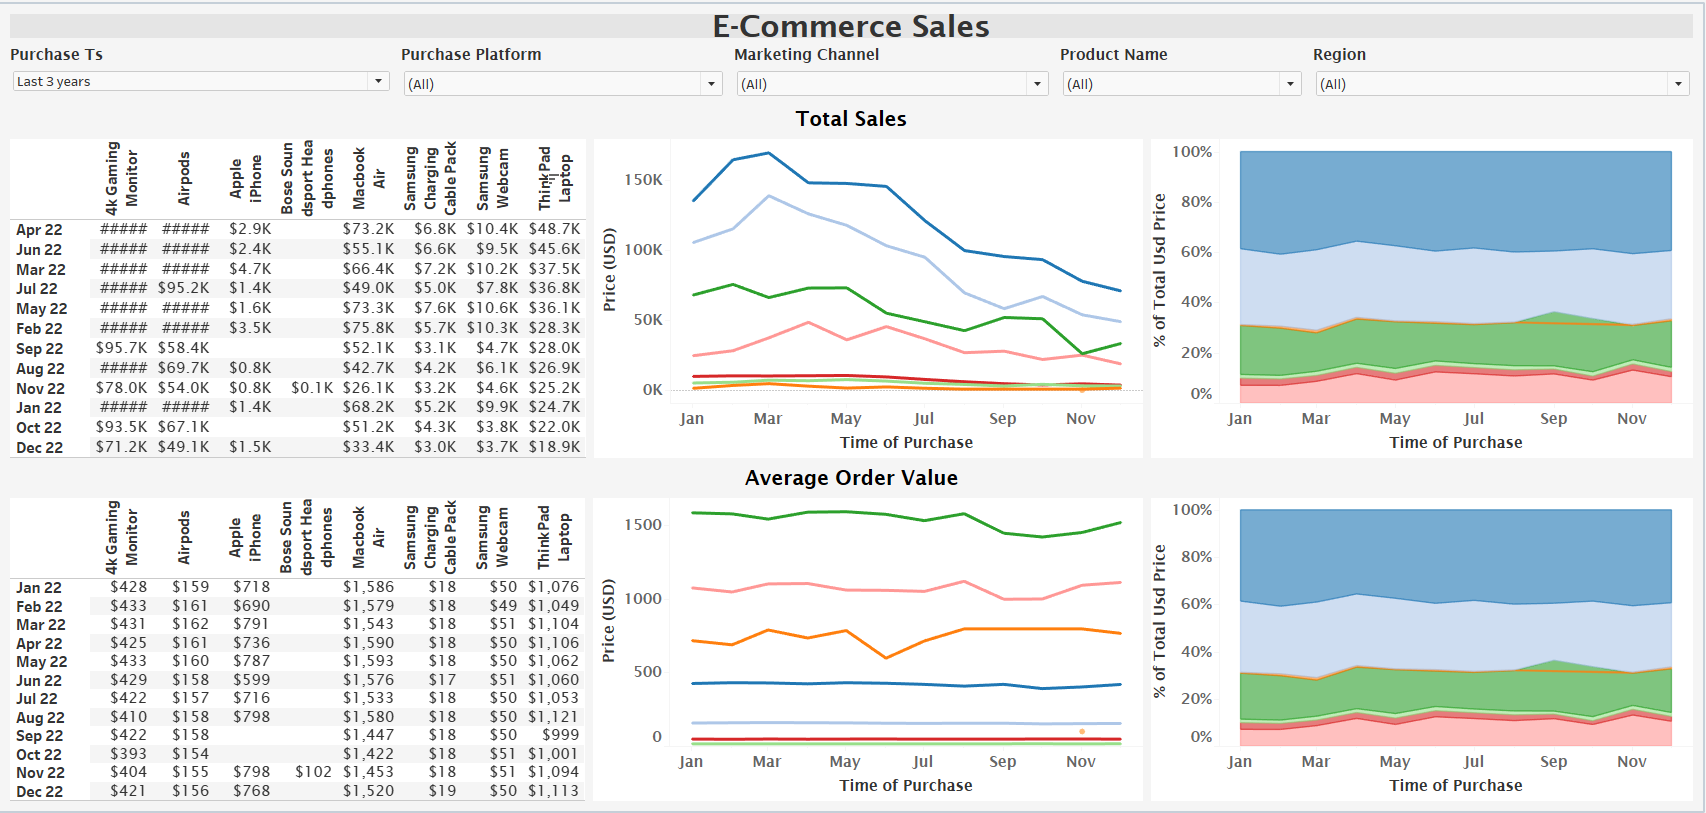

Layout of this report page (visuals, bound fields, positions):
{"tool":"tableau","page":{"name":"Dashboard 1","canvas":[1000,1000],"units":"permille","ordinal":0},"visuals":[{"type":"title","box":[4.7,9.9,990.6,39.5]},{"type":"filter","title":"Sales by Month Table","param":"[federated.17e6xtl1oemijd1epmsin1qef693].[none:purchase_ts:qk]","box":[4.7,49.3,229,75.2]},{"type":"filter","title":"Sales by Month Table","param":"[federated.17e6xtl1oemijd1epmsin1qef693].[none:purchase_platform:nk]","box":[233.7,49.3,195.1,75.2]},{"type":"filter","title":"Sales by Month Table","param":"[federated.17e6xtl1oemijd1epmsin1qef693].[none:marketing_channel:nk]","box":[428.8,49.3,191,75.2]},{"type":"filter","title":"Sales by Month Table","param":"[federated.17e6xtl1oemijd1epmsin1qef693].[none:product_name_clean:nk]","box":[619.8,49.3,148.2,75.2]},{"type":"filter","title":"Sales by Month Table","param":"[federated.17e6xtl1oemijd1epmsin1qef693].[none:region:nk]","box":[768,49.3,227.3,75.2]},{"type":"text","box":[4.7,124.5,990.6,39.5]},{"type":"worksheet","title":"Sales by Month Table","mark":"Automatic","rows":["purchase_ts"],"cols":["product_name_clean"],"box":[4.7,164,342.1,403.1]},{"type":"worksheet","title":"Sales by Month Line Graph","mark":"Automatic","rows":["usd_price"],"cols":["purchase_ts"],"box":[346.8,164,326.6,403.1]},{"type":"worksheet","title":"Sales by Month Area Graph","mark":"Area","cols":["purchase_ts"],"box":[673.4,164,321.9,403.1]},{"type":"text","box":[4.7,567.1,990.6,39.6]},{"type":"worksheet","title":"AOV by Month Table ","mark":"Automatic","rows":["purchase_ts"],"cols":["product_name_clean"],"box":[4.7,606.6,341.5,383.5]},{"type":"worksheet","title":"AOV by Month Line Graph","mark":"Automatic","rows":["usd_price"],"cols":["purchase_ts"],"box":[346.2,606.6,326.9,383.5]},{"type":"worksheet","title":"AOV by Month Area Graph","mark":"Area","cols":["purchase_ts"],"box":[673.1,606.6,322.2,383.5]}]}

Visuals, with their boxes on the dashboard's canvas, which has no fixed pixel size, in thousandths of its width and height (x1, y1, x2, y2). These are canvas units, not pixel positions in the 1706x813 screenshot, which may show the page scaled, cropped or inside an application window:
title: 5/10/995/49
"Sales by Month Table" filter: 5/49/234/124
"Sales by Month Table" filter: 234/49/429/124
"Sales by Month Table" filter: 429/49/620/124
"Sales by Month Table" filter: 620/49/768/124
"Sales by Month Table" filter: 768/49/995/124
text: 5/124/995/164
"Sales by Month Table" worksheet: 5/164/347/567
"Sales by Month Line Graph" worksheet: 347/164/673/567
"Sales by Month Area Graph" worksheet (Area marks): 673/164/995/567
text: 5/567/995/607
"AOV by Month Table " worksheet: 5/607/346/990
"AOV by Month Line Graph" worksheet: 346/607/673/990
"AOV by Month Area Graph" worksheet (Area marks): 673/607/995/990
